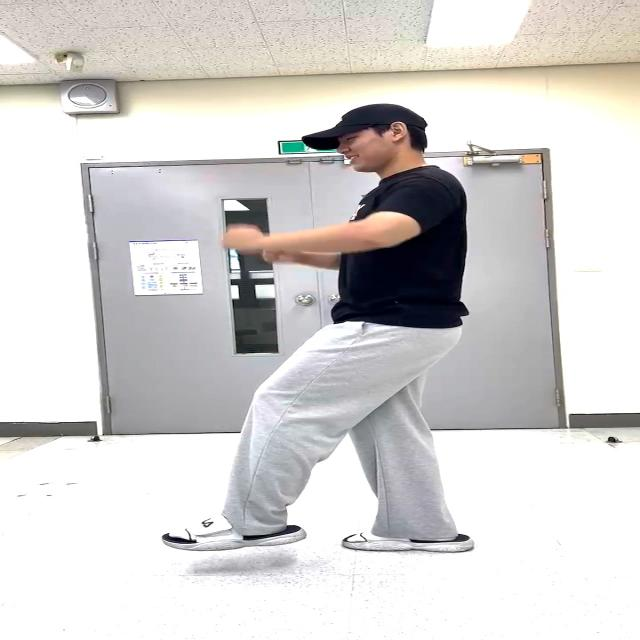leg: (149, 324, 369, 571)
